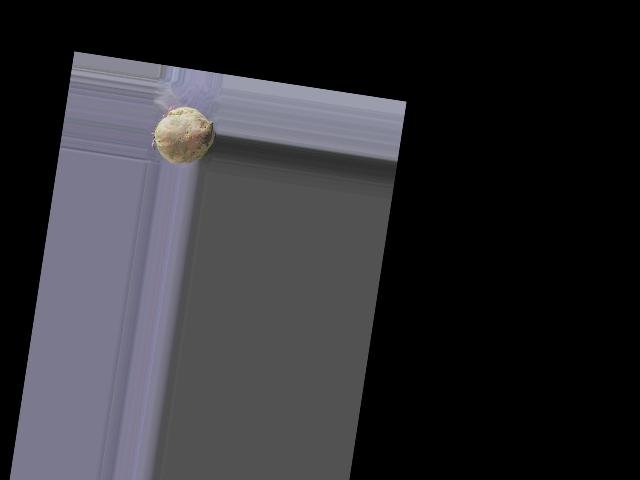beet: (148, 102, 218, 168)
